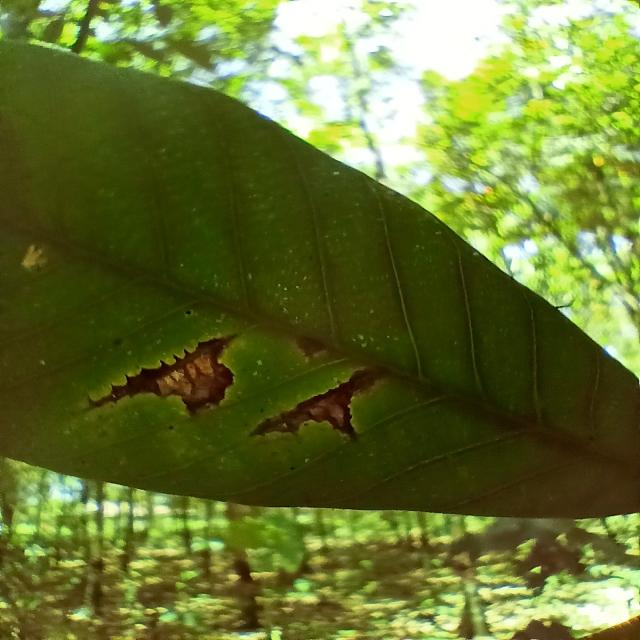Colletotrichum: (185, 310, 191, 314)
Corynespora: (88, 334, 236, 418), (248, 366, 384, 440)
